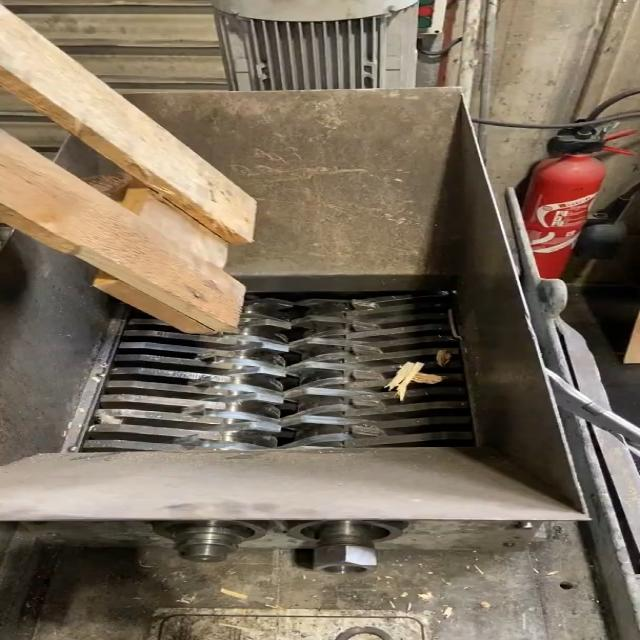Broyeur: (59, 264, 493, 476)
Palette: (0, 0, 261, 340)
